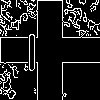I: (25, 25, 39, 70)
